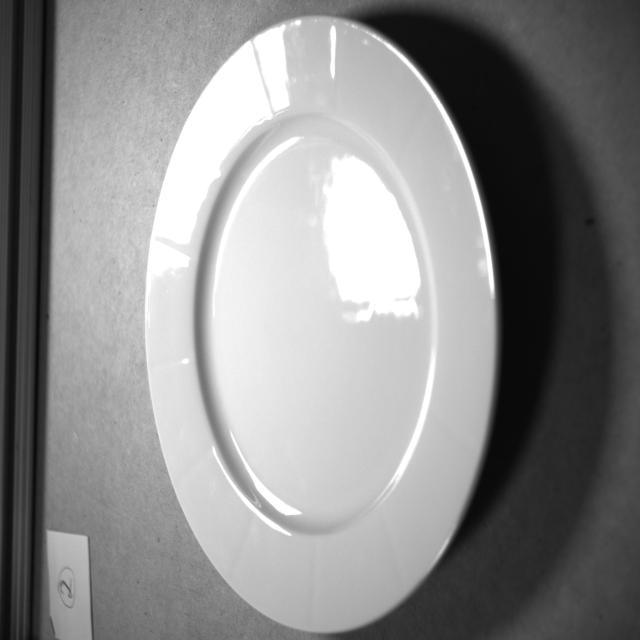plate: (146, 16, 496, 632)
